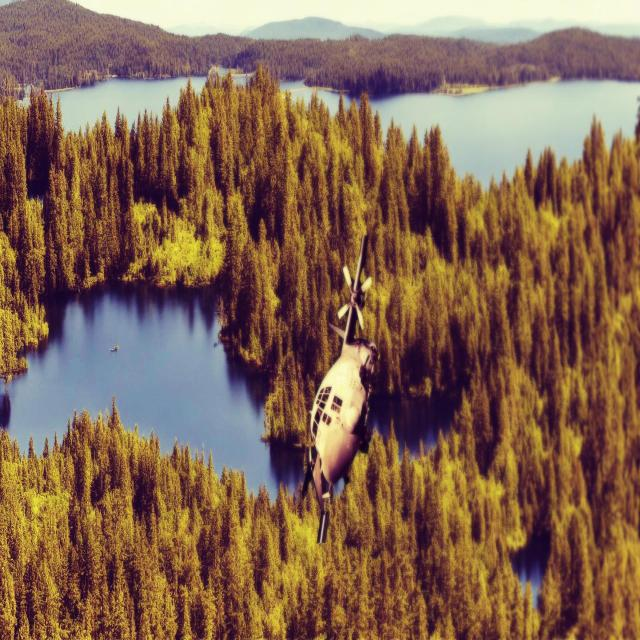airplane: (300, 232, 380, 544)
